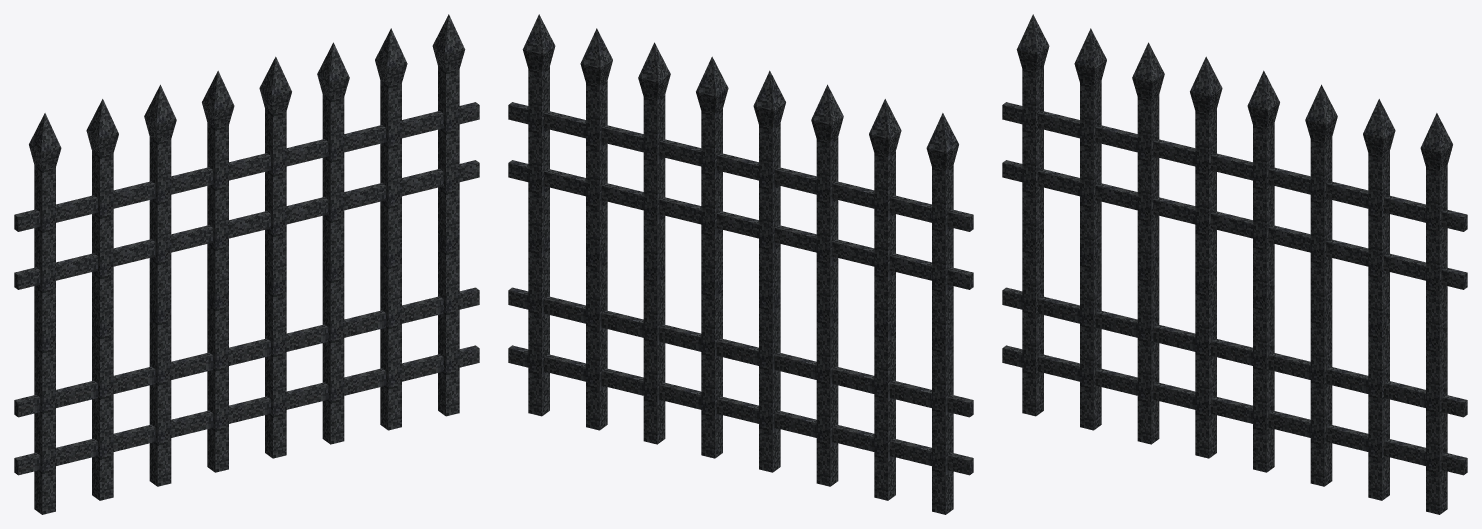
File: ironfence.glb
The picture shows the model from 3 angles, left to right: view 1: azimuth 30°, elevation 25°; view 2: azimuth 150°, elevation 25°; view 3: azimuth 330°, elevation 25°; orthographic projection.
Parts seen in each view (by area): view 1: ironFence; view 2: ironFence; view 3: ironFence.
Part boxes in pixels (x1=…): ironFence: x1=14, y1=14, x2=479, y2=514; ironFence: x1=508, y1=14, x2=973, y2=514; ironFence: x1=1002, y1=14, x2=1467, y2=514.
Size of the model in its own units: 1.25 by 1.03 by 0.0561.
Materials: 1 (1 with a texture image).
